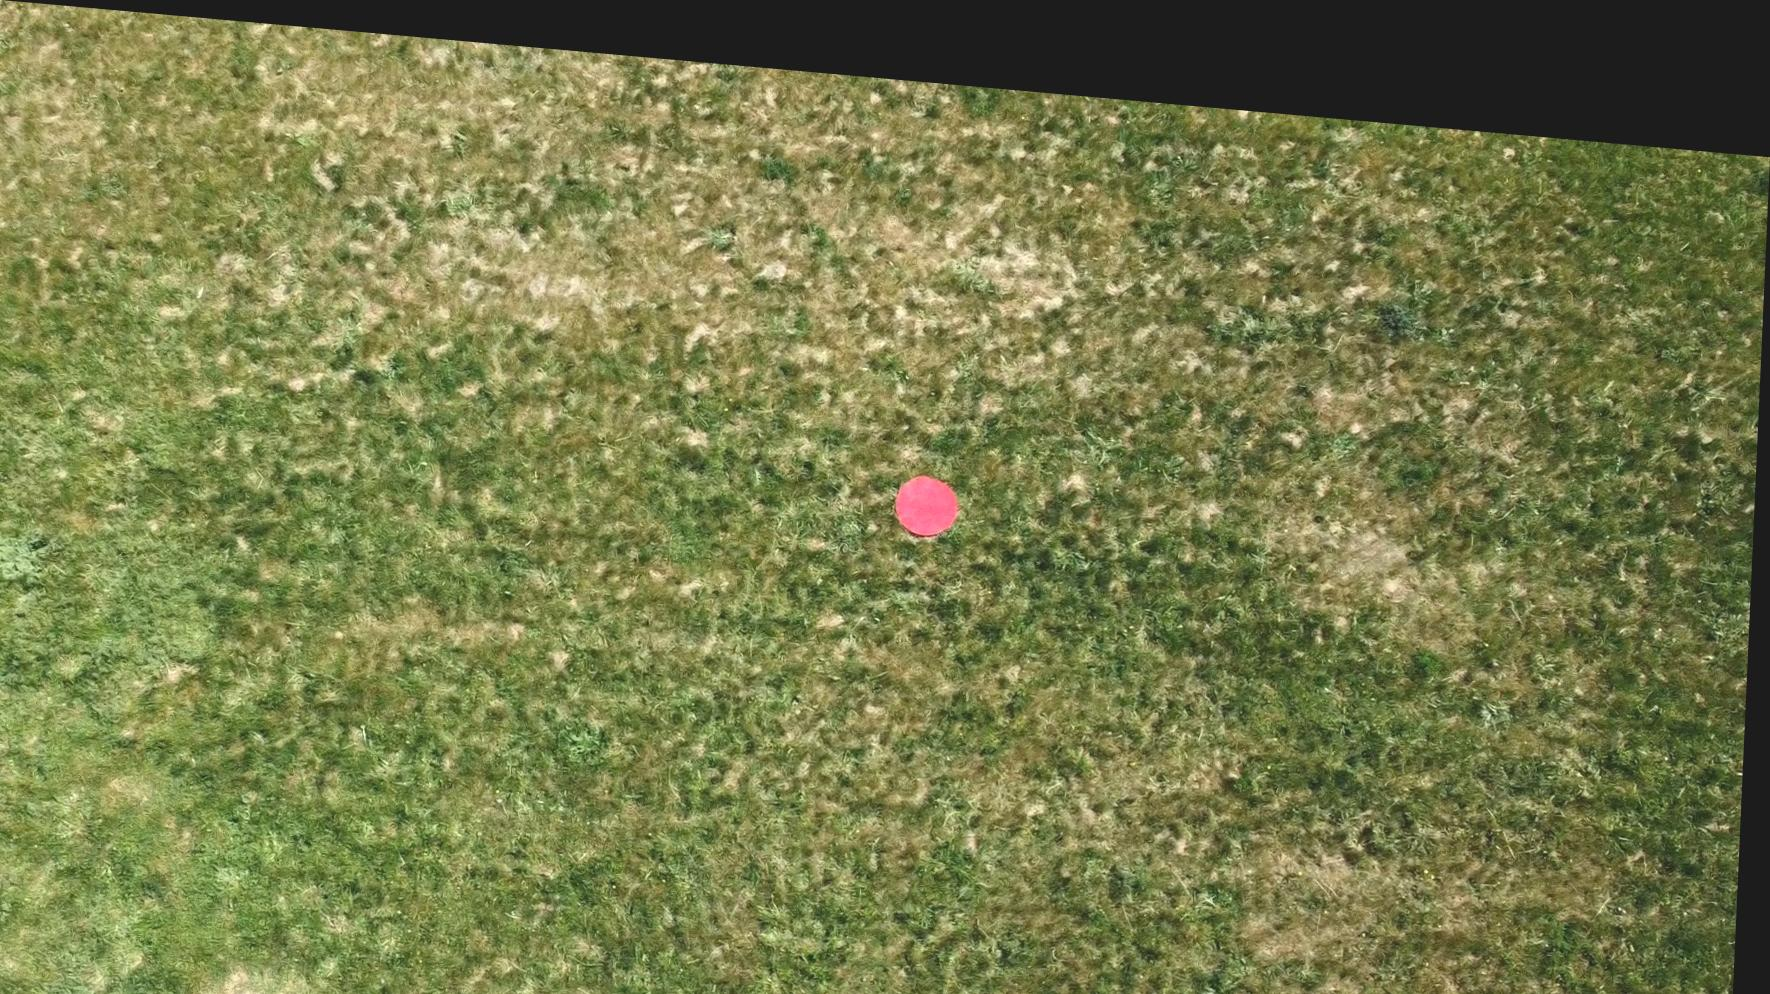Red: (895, 454, 965, 523)
